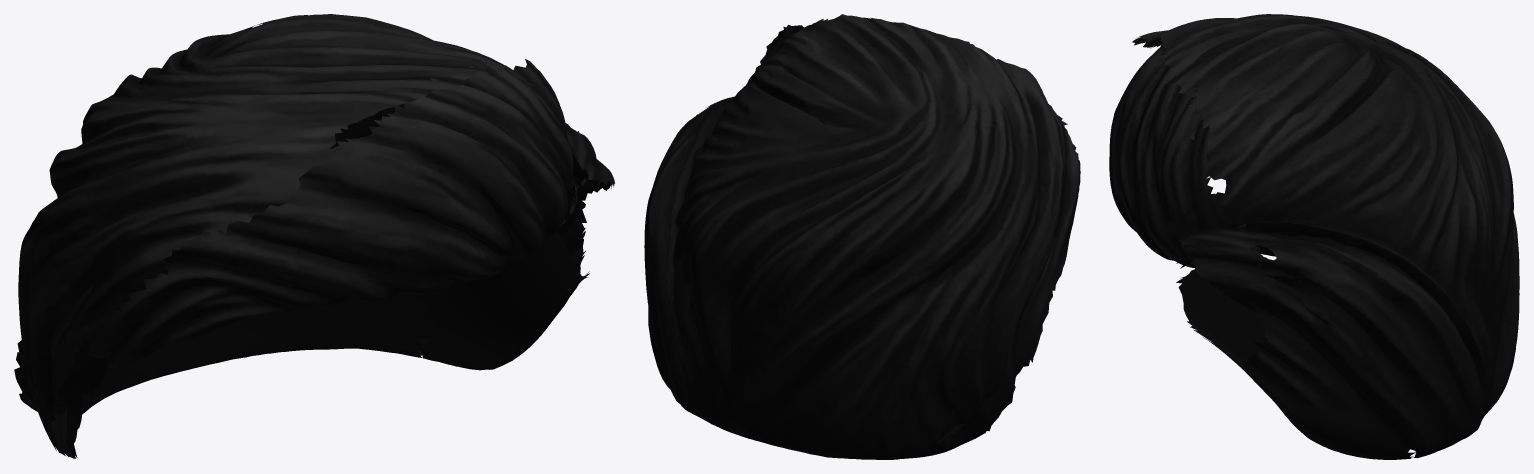
3 views of the same model, side by side, from view 1: azimuth 30°, elevation 25°; view 2: azimuth 150°, elevation 25°; view 3: azimuth 270°, elevation 25° (orthographic). The views are drawn at different scales.
Parts seen in each view (by area): view 1: geometry_0.001, geometry_0.002; view 2: geometry_0.001, geometry_0.002; view 3: geometry_0.001, geometry_0.002.
Part boxes in pixels (box(x1,y1,x2,y2)): geometry_0.001: box(18, 14, 614, 458); geometry_0.002: box(14, 59, 579, 414); geometry_0.001: box(644, 14, 1080, 459); geometry_0.002: box(685, 20, 1055, 442); geometry_0.001: box(1132, 14, 1519, 459); geometry_0.002: box(1109, 45, 1336, 328).
Size of the model in its own units: 0.6444 by 0.5108 by 0.5562.
Materials: 1 (1 with a texture image).
